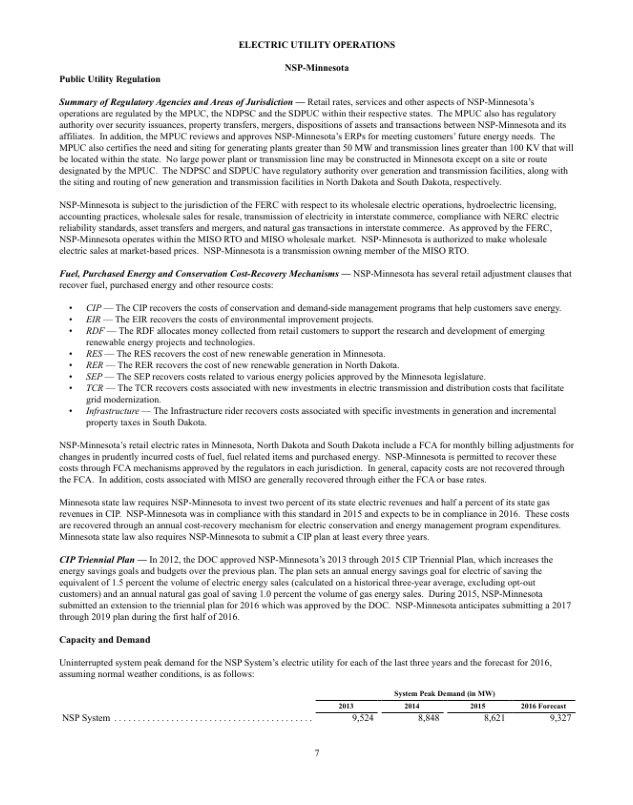table: (308, 685, 578, 732)
